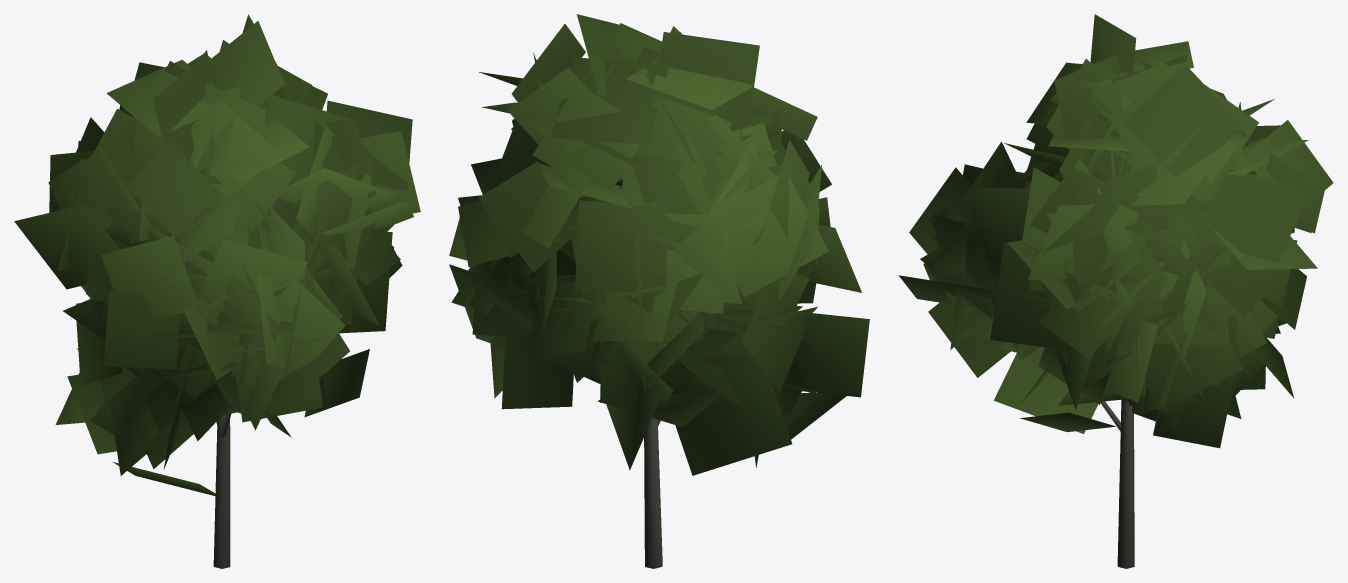
The model's file is SM_Buk_2.glb.
The picture shows the model from 3 angles, left to right: view 1: azimuth 30°, elevation 25°; view 2: azimuth 150°, elevation 25°; view 3: azimuth 270°, elevation 25°; orthographic projection. The views are drawn at different scales.
Parts seen in each view (by area): view 1: SM_Buk_2; view 2: SM_Buk_2; view 3: SM_Buk_2.
Boxes of the visible parts, x1=… form: SM_Buk_2: x1=14, y1=14, x2=420, y2=568; SM_Buk_2: x1=449, y1=14, x2=869, y2=568; SM_Buk_2: x1=898, y1=14, x2=1333, y2=568.
Size of the model in its own units: 13.15 by 17.78 by 13.24.
